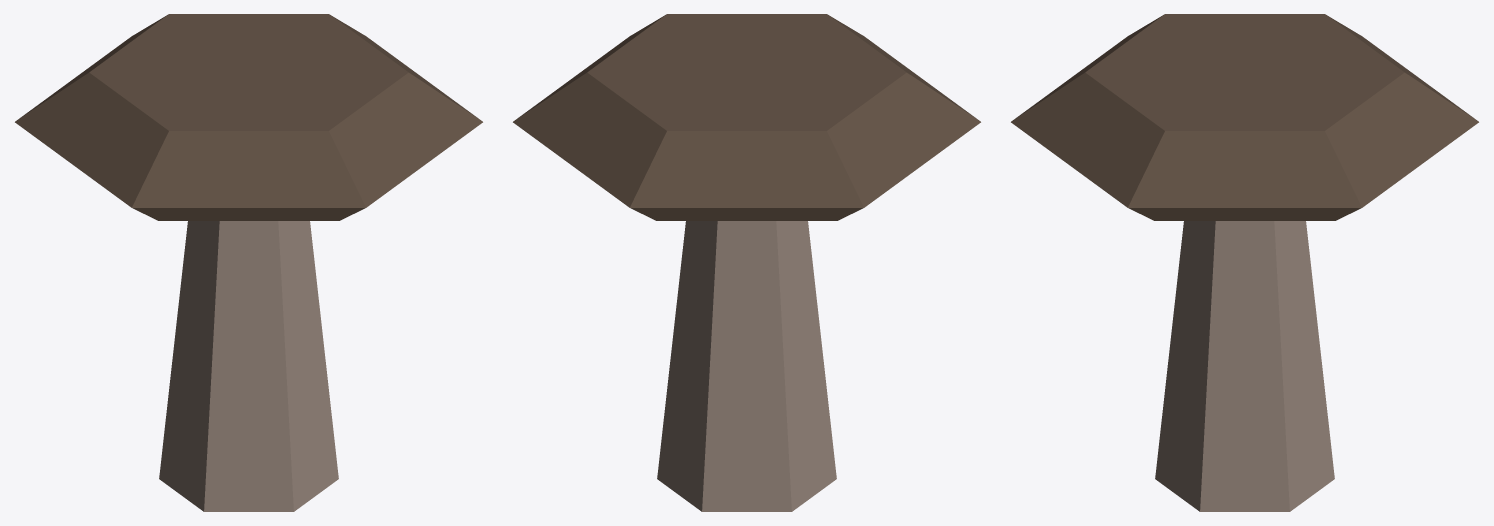
Rendered from Deathcap1.fbx.
3 views of the same model, side by side, from view 1: azimuth 30°, elevation 25°; view 2: azimuth 150°, elevation 25°; view 3: azimuth 270°, elevation 25° (orthographic).
Visible parts, largest first — view 1: Deathcap1; view 2: Deathcap1; view 3: Deathcap1.
Boxes of the visible parts, left/top/right/bottom form: Deathcap1: left=15, top=14, right=482, bottom=511; Deathcap1: left=513, top=14, right=980, bottom=511; Deathcap1: left=1011, top=14, right=1478, bottom=511.
Bounding box in the file's own units: 27.73 × 30.63 × 32.02.
